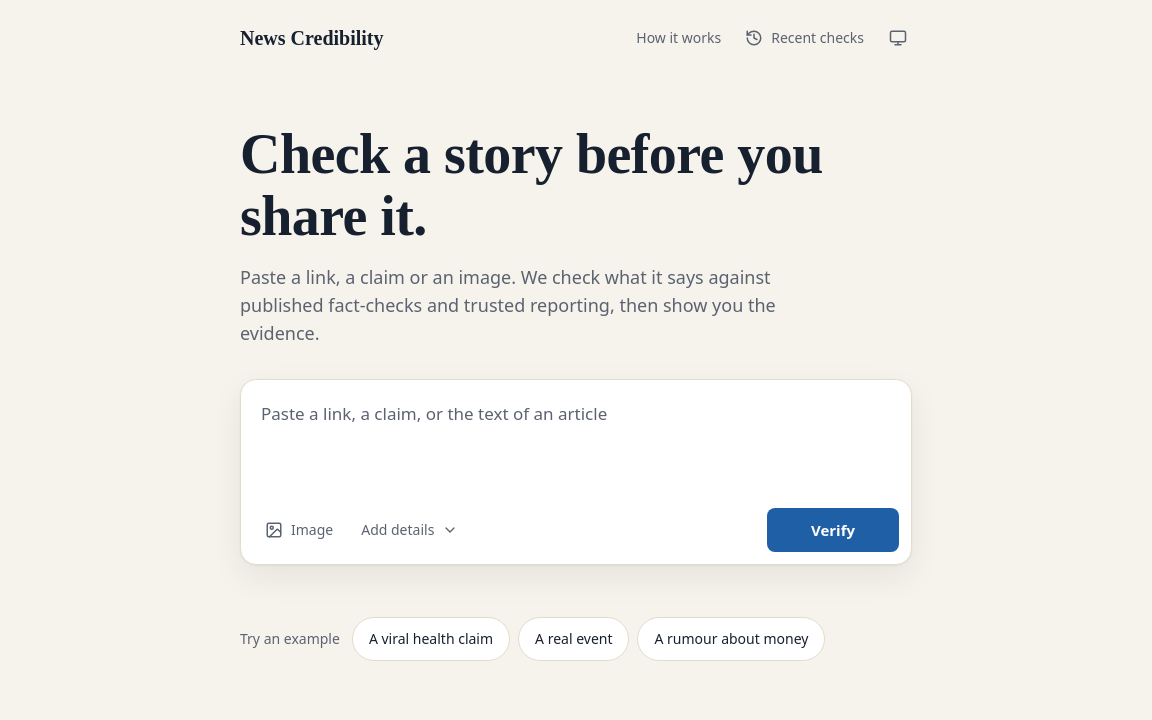
Test: removing a recent check › takes the row away at once but waits, offering Undo, before deleting anything
Click the button "Recent checks" at [805, 38], box [733,16,876,60]
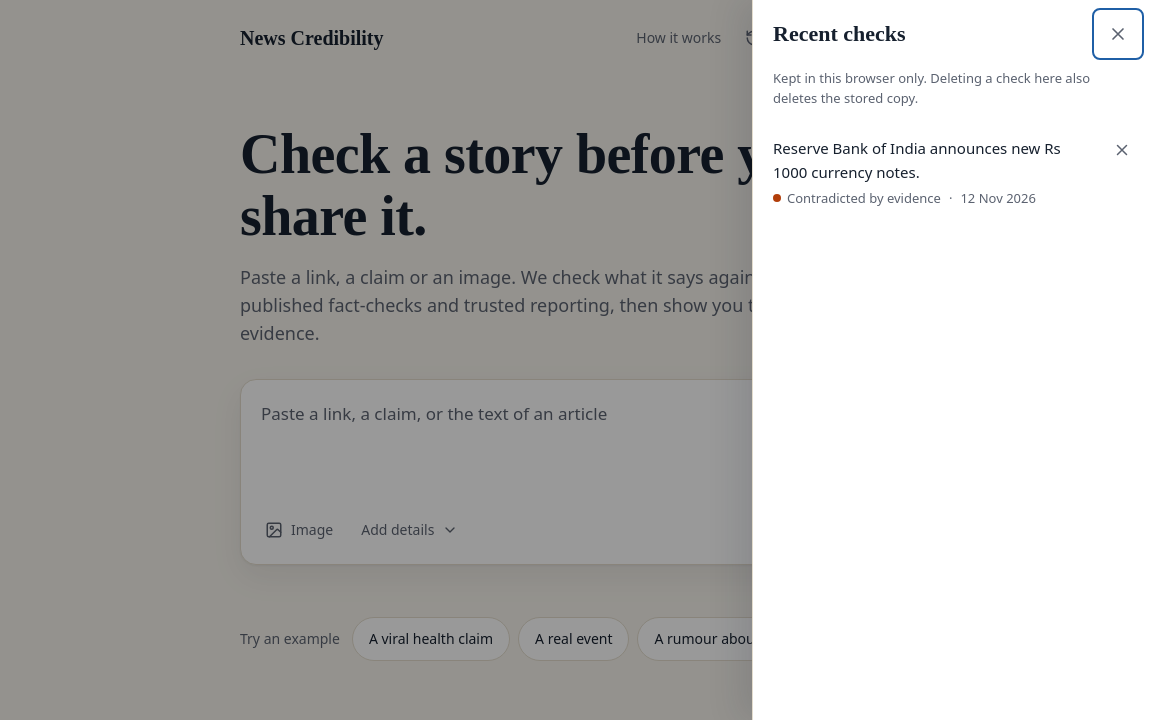
Click the button named "Delete the check" at [1122, 150], box [1100,128,1144,172]
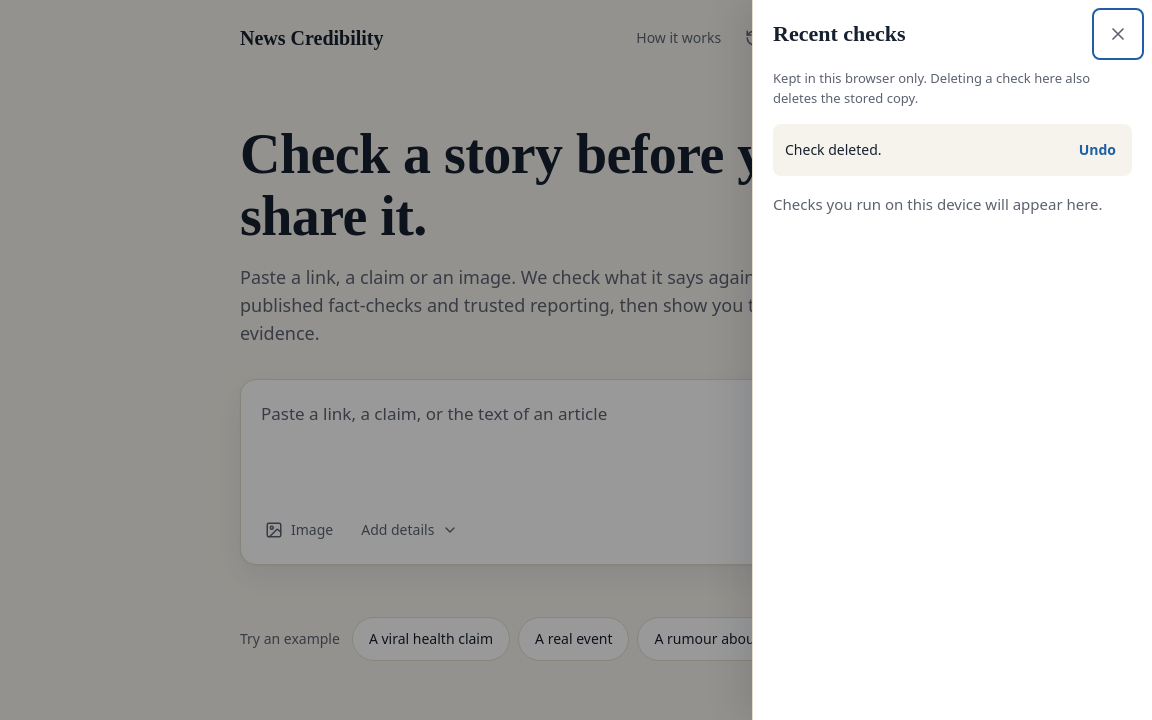
Now the link "Reserve Bank" is gone
Now the message shows "Check deleted.", box [785,140,882,159]
Click the button "Undo" at [1097, 150], box [1067,128,1128,172]
Wait 10000 ms
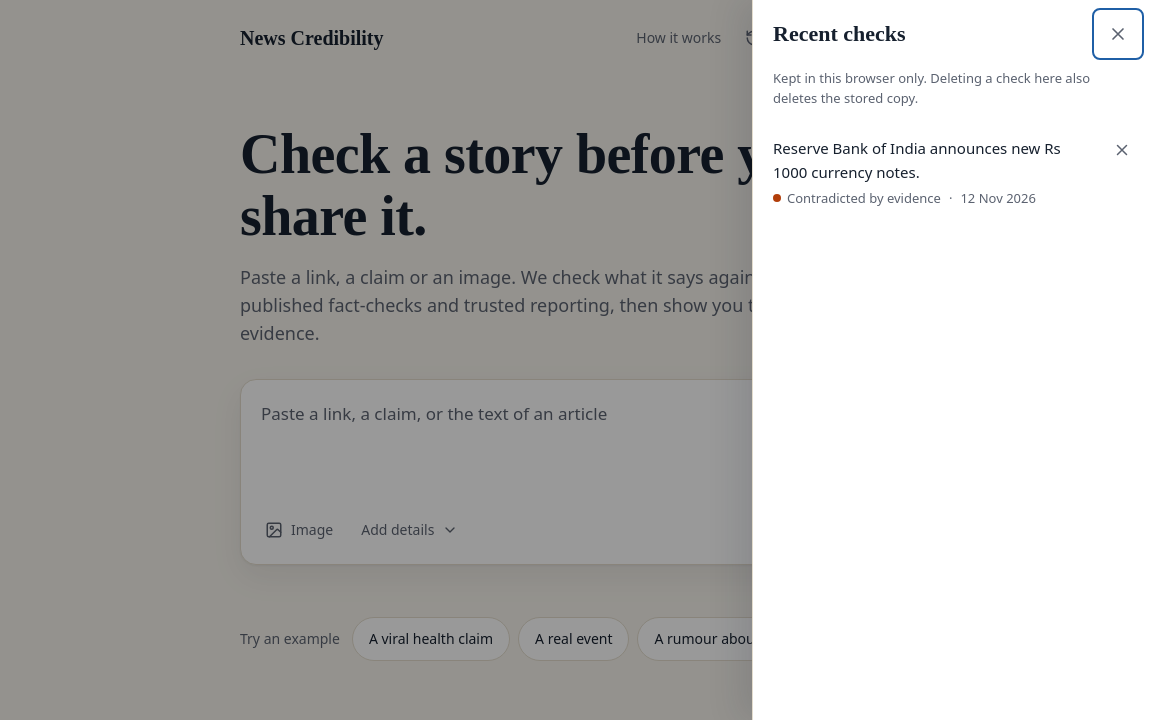
Now the link "Reserve Bank" is shown, box [761,124,1096,220]
